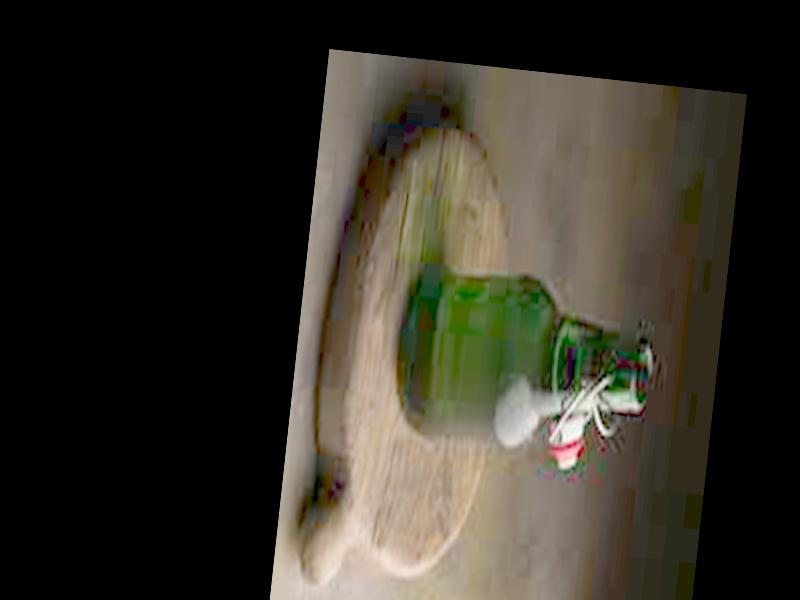Beer: (395, 270, 663, 460)
